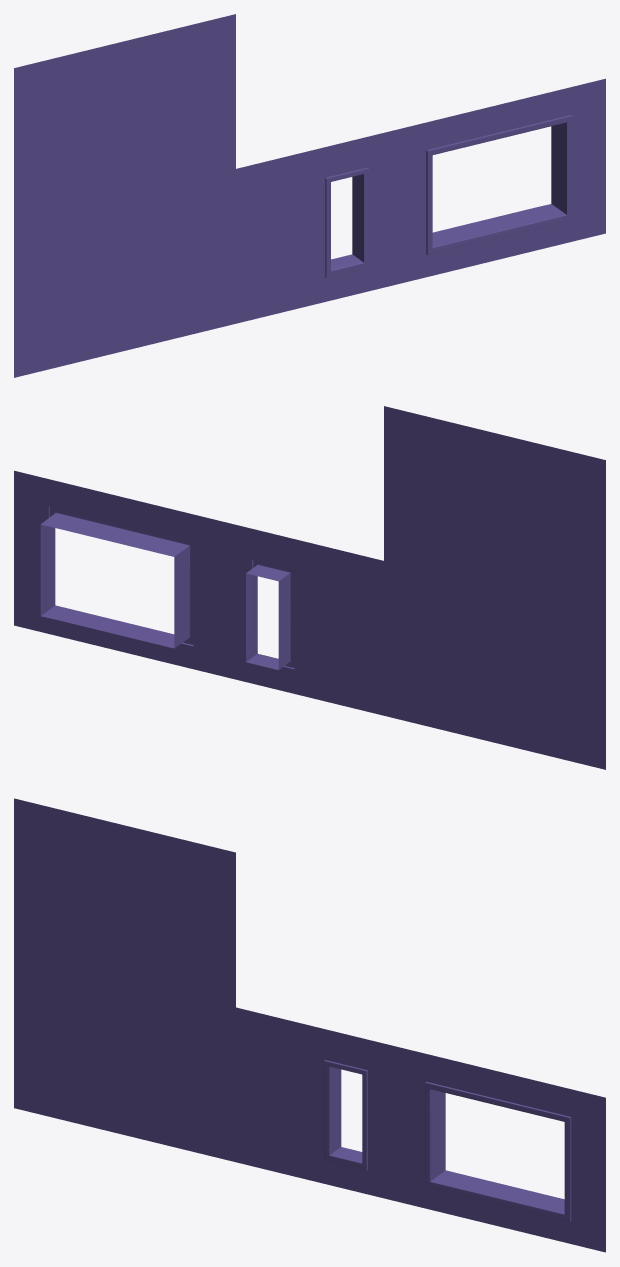
The model's file is EnvironmentProject_wall.fbx.
3 renders of one model, top to bottom at view 1: azimuth 30°, elevation 25°; view 2: azimuth 150°, elevation 25°; view 3: azimuth 330°, elevation 25°, orthographic.
Parts seen in each view (by area): view 1: wallbrick_a_GEO_01, wallbrick_b_GEO_01, wallbrick_window_a_GEO_01, wallbrick_c_GEO_01, wallbrick_window_c_GEO_01; view 2: wallbrick_a_GEO_01, wallbrick_b_GEO_01, wallbrick_window_a_GEO_01, wallbrick_c_GEO_01, wallbrick_window_c_GEO_01; view 3: wallbrick_b_GEO_01, wallbrick_a_GEO_01, wallbrick_window_a_GEO_01, wallbrick_c_GEO_01, wallbrick_window_c_GEO_01.
Boxes of the visible parts, x1,y1,x2,y2 form: wallbrick_a_GEO_01: (14,14,235,222); wallbrick_b_GEO_01: (14,169,235,377); wallbrick_window_a_GEO_01: (384,78,605,287); wallbrick_c_GEO_01: (236,151,309,323); wallbrick_window_c_GEO_01: (310,133,383,305); wallbrick_a_GEO_01: (384,406,605,614); wallbrick_b_GEO_01: (384,561,605,769); wallbrick_window_a_GEO_01: (14,470,235,679); wallbrick_c_GEO_01: (310,543,383,715); wallbrick_window_c_GEO_01: (236,525,309,697); wallbrick_b_GEO_01: (14,953,235,1162); wallbrick_a_GEO_01: (14,798,235,1007); wallbrick_window_a_GEO_01: (384,1043,605,1252); wallbrick_c_GEO_01: (236,1007,309,1180); wallbrick_window_c_GEO_01: (310,1025,383,1198).
Size of the model in its own units: 1600 by 800 by 71.3.
